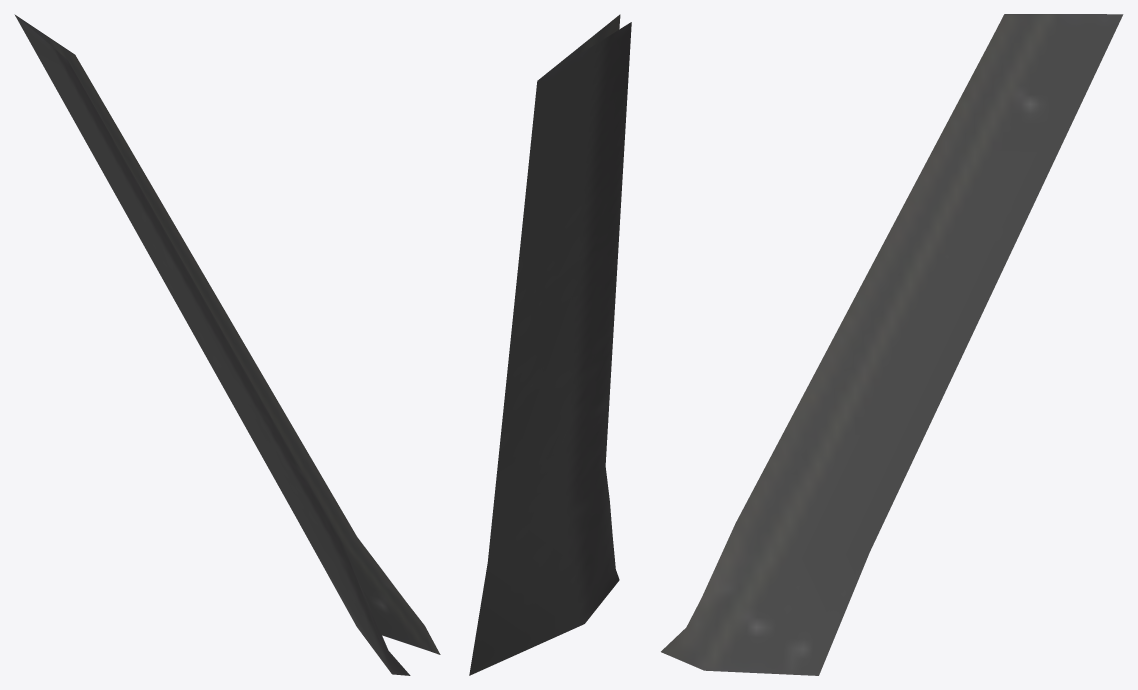
The model's file is leftvertical_new.obj.
3 renders of one model, left to right at view 1: azimuth 30°, elevation 25°; view 2: azimuth 150°, elevation 25°; view 3: azimuth 270°, elevation 25°, orthographic. The views are drawn at different scales.
Parts seen in each view (by area): view 1: f35c-airframe.006_f35c-airframe.008; view 2: f35c-airframe.006_f35c-airframe.008; view 3: f35c-airframe.006_f35c-airframe.008.
Part boxes in pixels (x1,y1,x2,y2): f35c-airframe.006_f35c-airframe.008: [14, 14, 440, 675]; f35c-airframe.006_f35c-airframe.008: [469, 14, 631, 675]; f35c-airframe.006_f35c-airframe.008: [661, 14, 1123, 675].
Size of the model in its own units: 0.993 by 2.45 by 1.81.
Materials: 1 (1 with a texture image).
